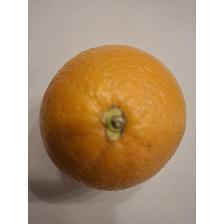Orange: (35, 39, 189, 193)
